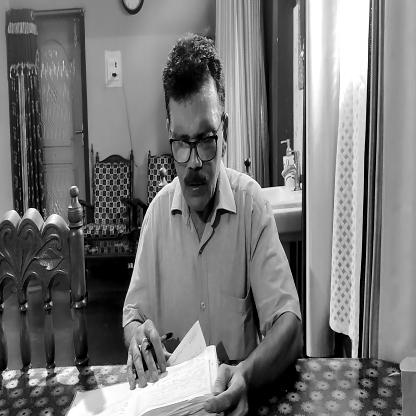Normal: (164, 40, 224, 214)
